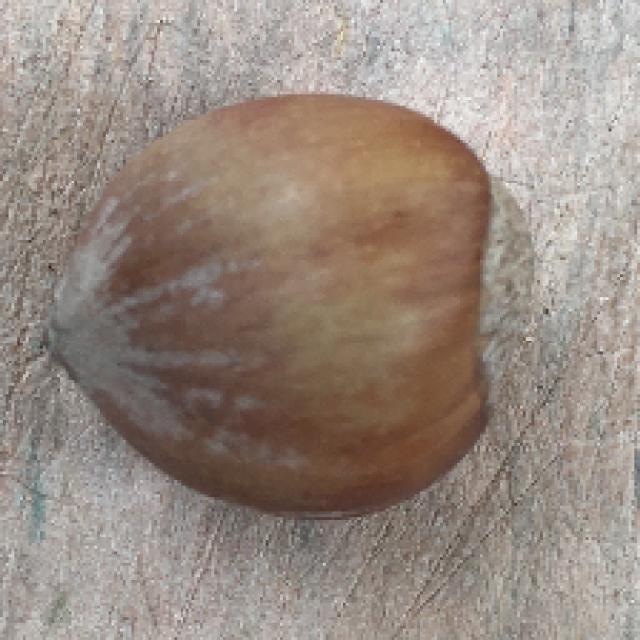qualityHazelnut: (44, 89, 540, 528)
